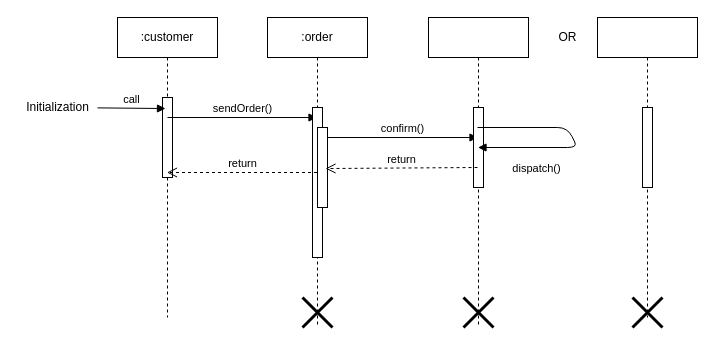
Some shapes in this 715 by 346 pixel diagram are drawn without their labels. The shapes that lost their labels are listed below. From the top down, each one's box as (x1, y1, x2, y2) in pixels, then its label:
(428, 16, 528, 328): :specialOrder
(596, 16, 698, 318): :normalOrder
